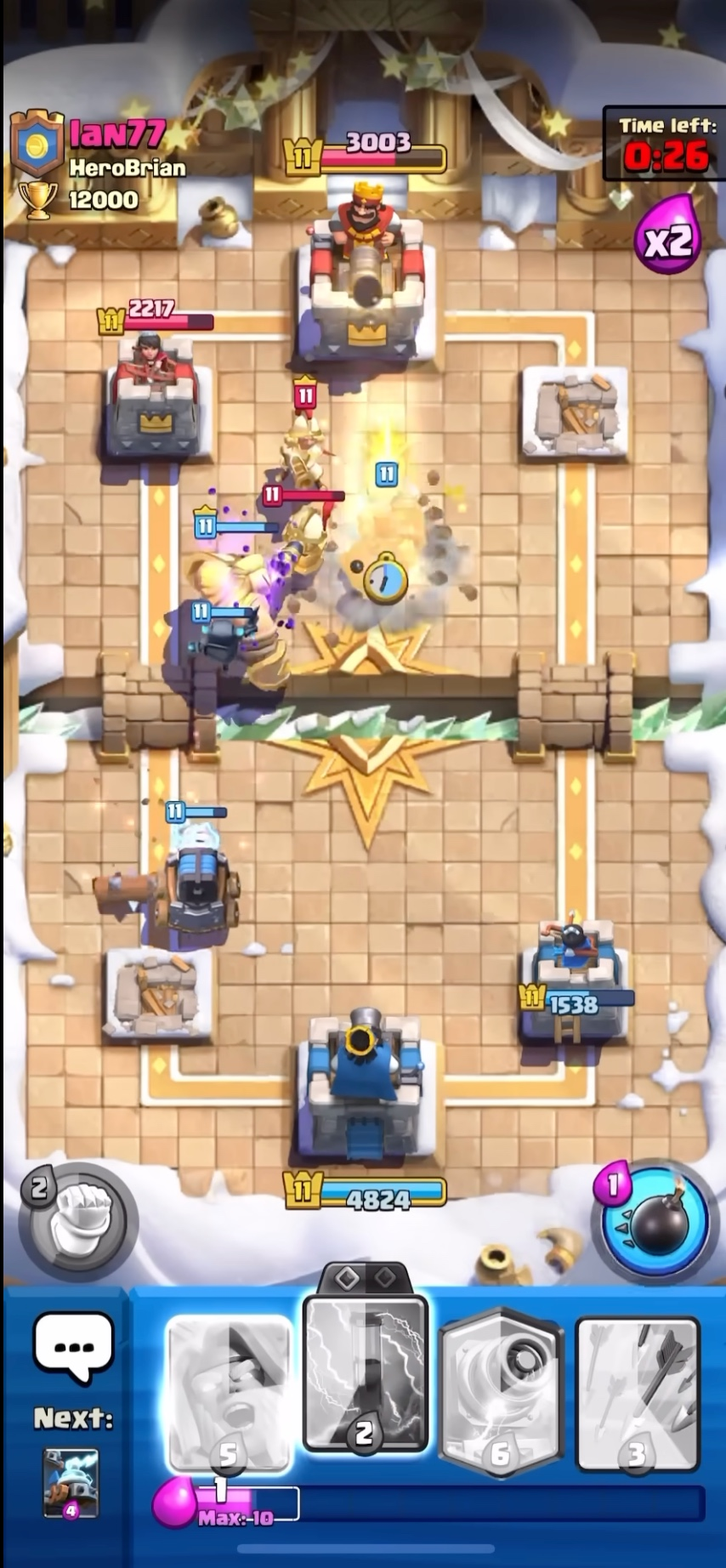hero-musketeer: (269, 377, 348, 496)
